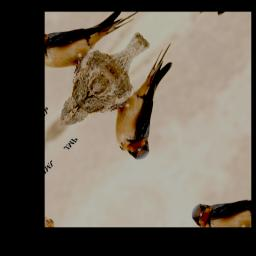Swallow: (90, 39, 213, 167)
